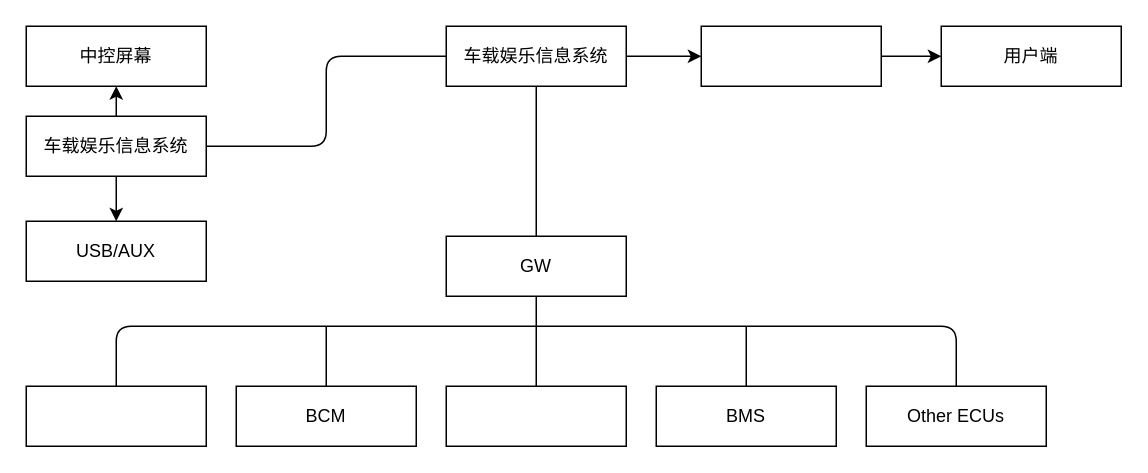
Image size: 1148x473. Some labels were removed from this diagram. The box of each missing label's shape, as (x1, y1, x2, y2) in pixels:
Cockpit: (25, 385, 206, 446)
EMS: (445, 385, 626, 446)
IOV 平台: (700, 25, 881, 86)
